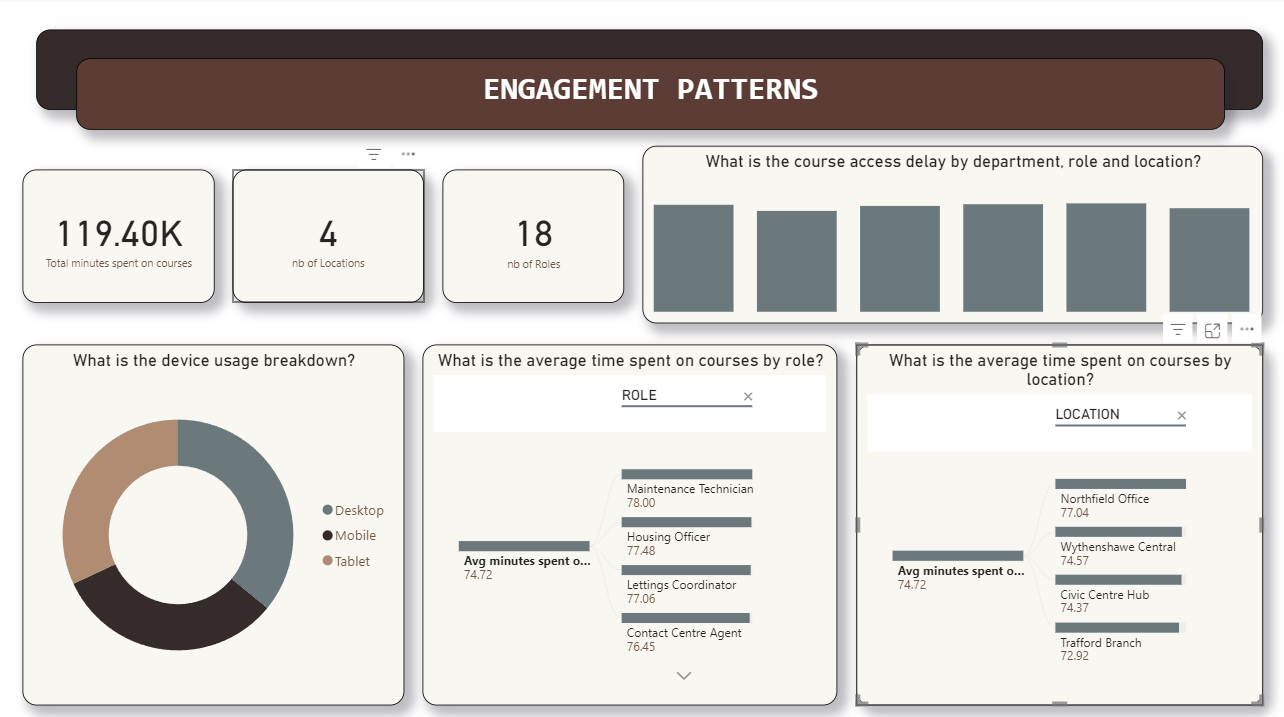

This screenshot's page, from the dashboard's own definition file:
{"tool":"powerbi","page":{"name":"Engagement Patterns","canvas":[1280,720],"ordinal":2},"visuals":[{"type":"donutChart","title":"What is the device usage breakdown?","fields":{"Category":["public dim_usage.accessedviadevice"],"Y":["CountNonNull(public dim_usage.lastaccessdate)"]},"box":[22,345.8,380.1,359.5],"z":0},{"type":"decompositionTreeVisual","title":"What is the time spent on courses by role?","fields":{"ExplainBy":["public dim_employee.role"],"Analyze":["Avg(public fact_table.durationminutes)"]},"box":[420.6,345.8,413,359.5],"z":1000},{"type":"decompositionTreeVisual","title":"What is the time spent on courses by location?","fields":{"ExplainBy":["public dim_employee.location"],"Analyze":["Avg(public fact_table.durationminutes)"]},"box":[852.1,345.8,404.8,359.5],"z":2000},{"type":"card","fields":{"Values":["CountNonNull(public fact_table.durationminutes)"]},"box":[22.1,172.1,191.4,132.5],"z":3000},{"type":"card","fields":{"Values":["Count(public dim_employee.role)"]},"box":[440.1,171.5,181.1,133.1],"z":4000},{"type":"card","fields":{"Values":["Count(public dim_employee.location)"]},"box":[231.7,172.1,190.2,132.5],"z":5000},{"type":"textbox","box":[35.6,31.9,1220.9,79.8],"z":6000,"group":"g1"},{"type":"clusteredColumnChart","title":"What is the course access delay by department, role and location?","fields":{"Category":["lms_data.team","public dim_employee.role","public dim_employee.location"],"Y":["Avg(lms_data.AccessDelay)"]},"box":[639.5,148.2,617.5,177],"z":6000},{"type":"textbox","box":[74.9,60.1,1143.6,71.2],"z":7000,"group":"g1"},{"type":"group","id":"g1","title":"Group 1","box":[35.6,31.9,1220.9,99.4],"z":7000}]}

Visuals, with their boxes in screenshot pixels (x1, y1, x2, y2), scaled from the page's 1280x720 canvas onto the 1284x717 screenshot:
"What is the device usage breakdown?" donutChart: BBox(22, 344, 403, 702)
"What is the time spent on courses by role?" decompositionTreeVisual: BBox(422, 344, 836, 702)
"What is the time spent on courses by location?" decompositionTreeVisual: BBox(855, 344, 1261, 702)
card - CountNonNull(public fact_table.durationminutes): BBox(22, 171, 214, 303)
card - Count(public dim_employee.role): BBox(441, 171, 623, 303)
card - Count(public dim_employee.location): BBox(232, 171, 423, 303)
textbox: BBox(36, 32, 1260, 111)
"What is the course access delay by department, role and location?" clusteredColumnChart: BBox(641, 148, 1261, 324)
textbox: BBox(75, 60, 1222, 131)
"Group 1" group: BBox(36, 32, 1260, 131)
